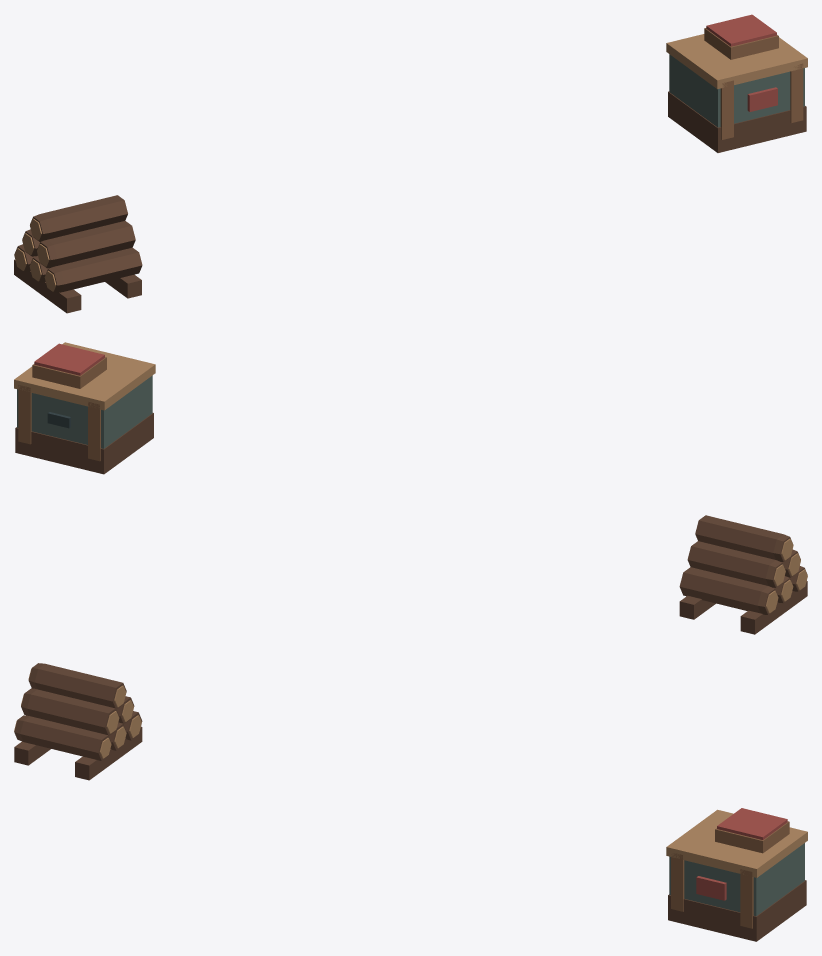
File: Survact-almacen-v01.glb
3 views of the same model, one above another, from view 1: azimuth 30°, elevation 25°; view 2: azimuth 150°, elevation 25°; view 3: azimuth 330°, elevation 25° (orthographic).
Parts seen in each view (by area): view 1: FoodStock, WoodStock; view 2: FoodStock, WoodStock; view 3: FoodStock, WoodStock.
Part boxes in pixels (left/top/right/bottom): FoodStock: left=666, top=14, right=807, bottom=152; WoodStock: left=14, top=195, right=142, bottom=313; FoodStock: left=14, top=342, right=155, bottom=474; WoodStock: left=679, top=515, right=807, bottom=634; FoodStock: left=666, top=808, right=807, bottom=941; WoodStock: left=14, top=663, right=142, bottom=780.
Bounding box in the file's own units: 2.83 × 0.32 × 0.3475.
